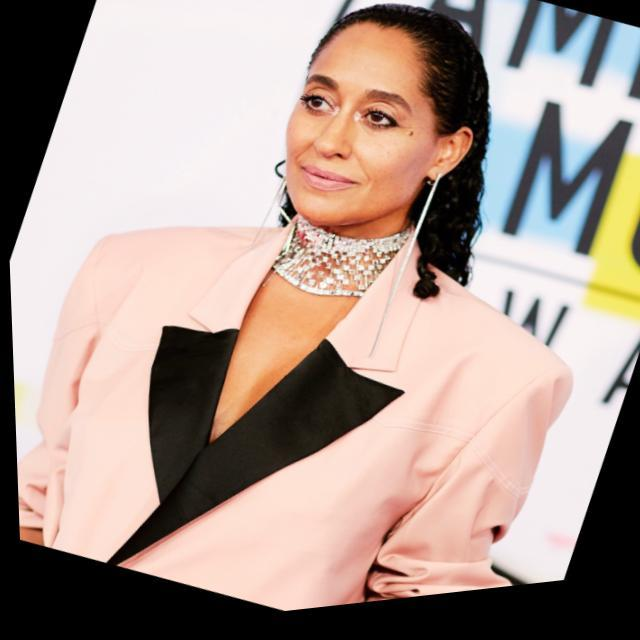Nonhelmet: (276, 2, 492, 256)
